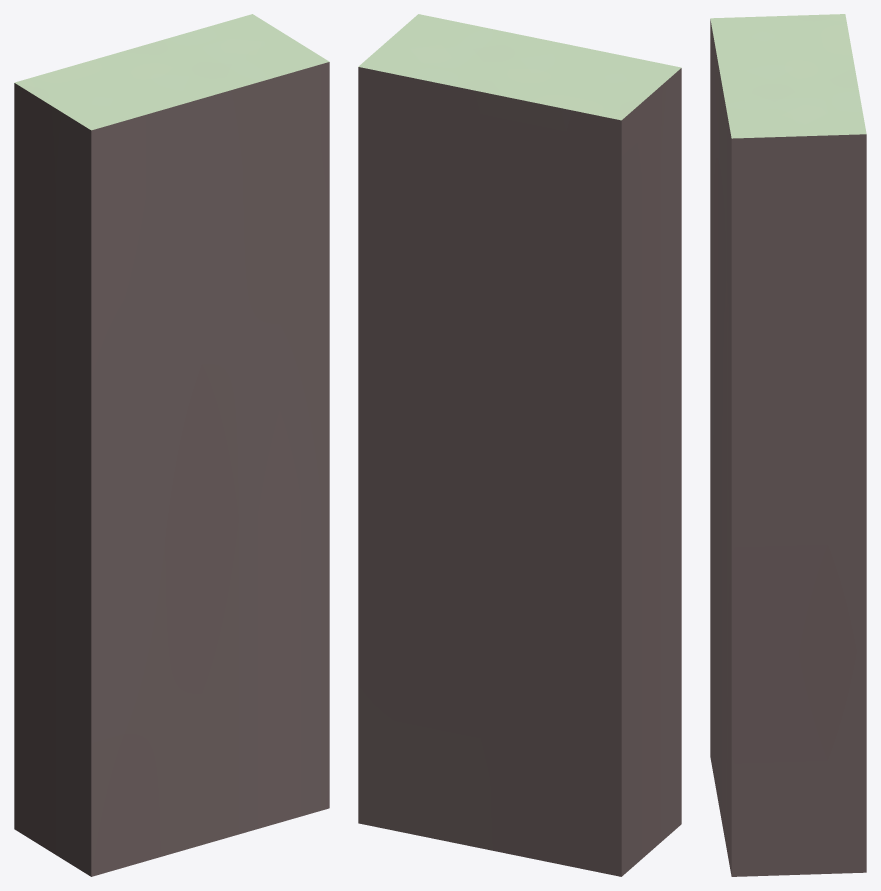
Rendered from Blocks-096.fbx.
3 views of the same model, side by side, from view 1: azimuth 30°, elevation 25°; view 2: azimuth 150°, elevation 25°; view 3: azimuth 270°, elevation 25° (orthographic). The views are drawn at different scales.
Visible parts, largest first — view 1: Blocks-096; view 2: Blocks-096; view 3: Blocks-096.
Part boxes in pixels (<box>): Blocks-096: <box>14,14,329,876</box>; Blocks-096: <box>358,14,681,876</box>; Blocks-096: <box>710,14,866,876</box>.
Bounding box in the file's own units: 11501 × 31798 × 6103.
